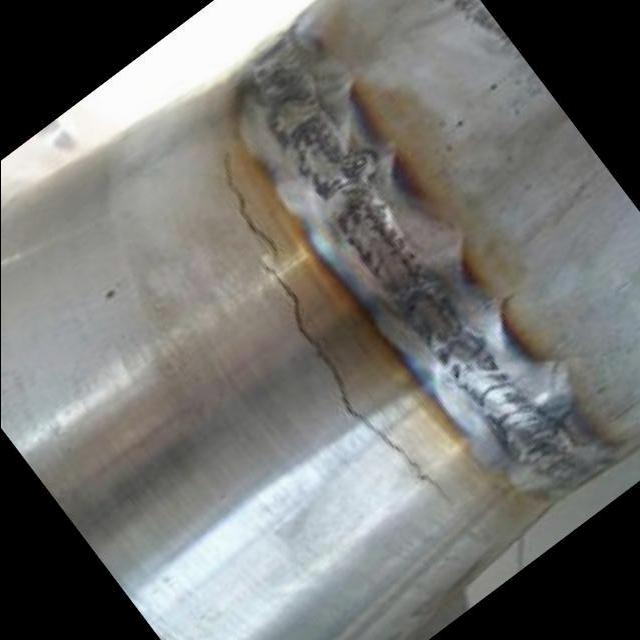defect: (214, 135, 463, 508)
